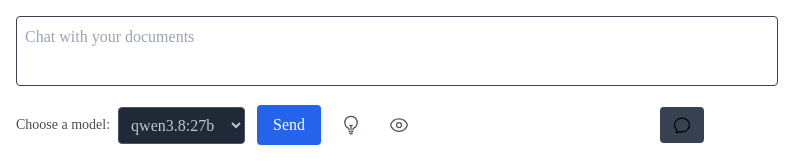
Test: Chat › toggles accuracy mode
Click the button named "accuracy off". click: click(399, 125)
box: [381,107,417,143]
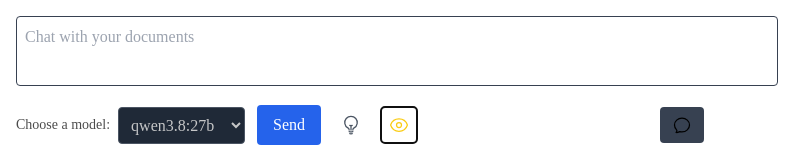
Now the button named "accuracy on" is shown, box [381,107,417,143]
